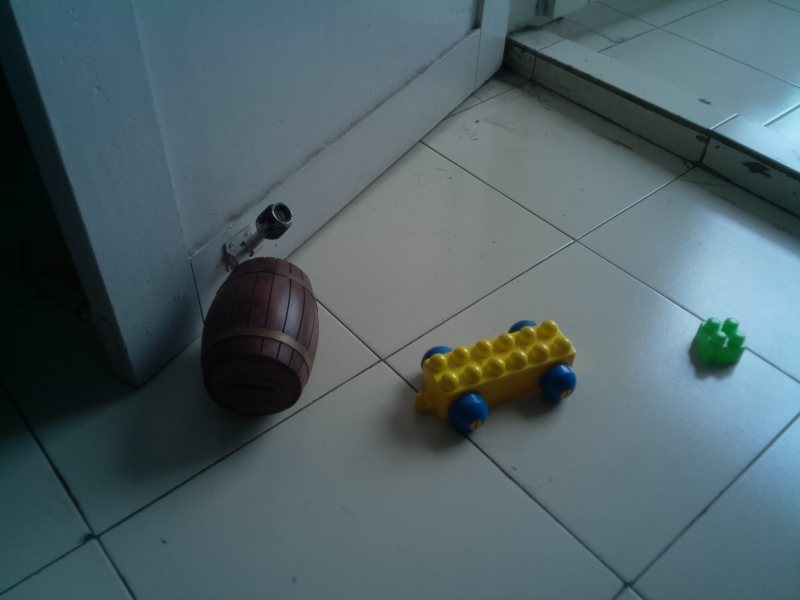toy_Car: (405, 310, 583, 440)
